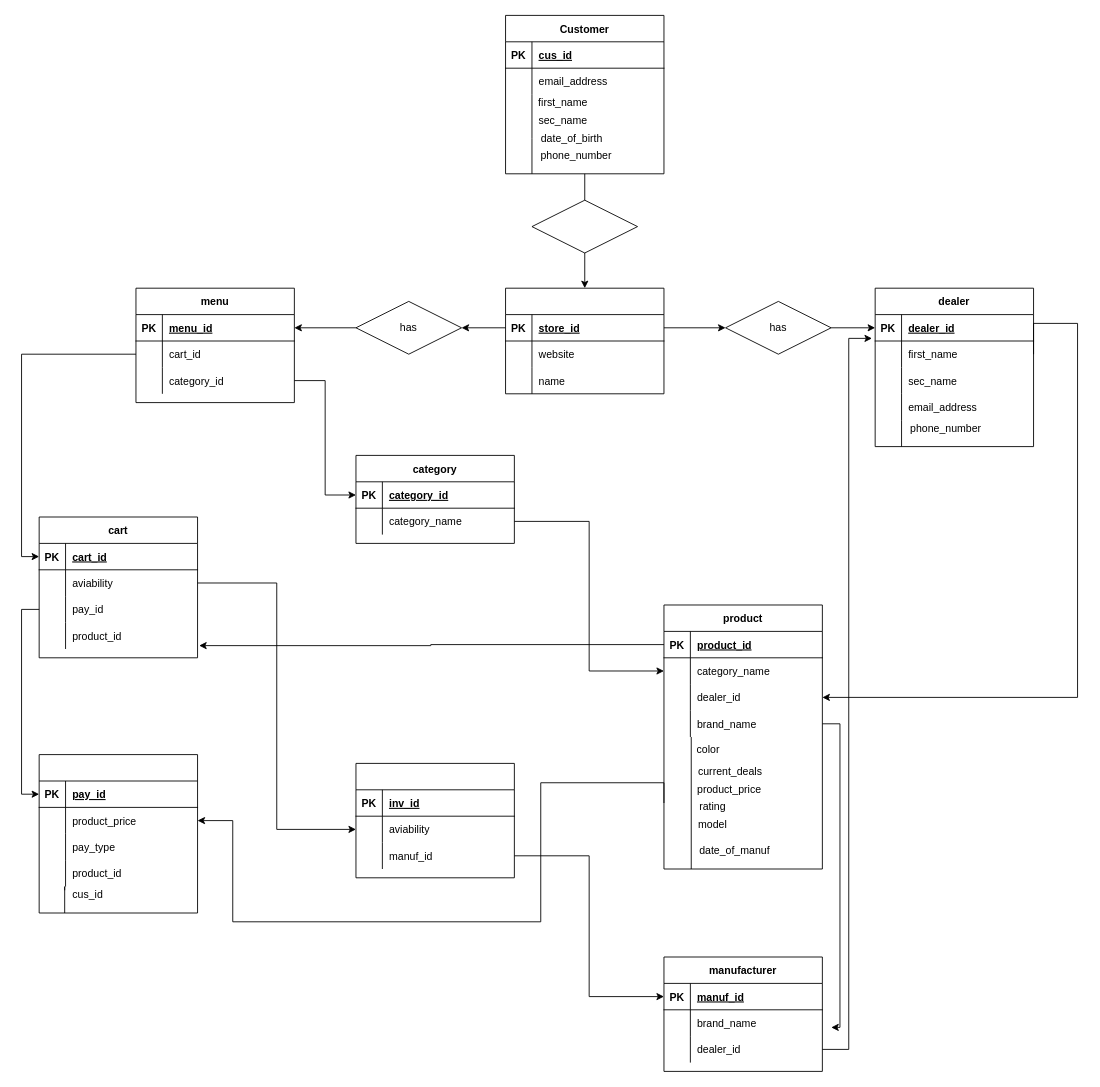
Image size: 1100x1087. Some labels were removed from this diagram. The shapes that lost their labels are listed below. From the top down, each one's box as (x1, y1, x2, y2) in pixels, then its label:
(531, 199, 638, 253): sign in
(505, 287, 664, 394): online store
(38, 754, 198, 913): payment
(355, 763, 514, 878): inventory
